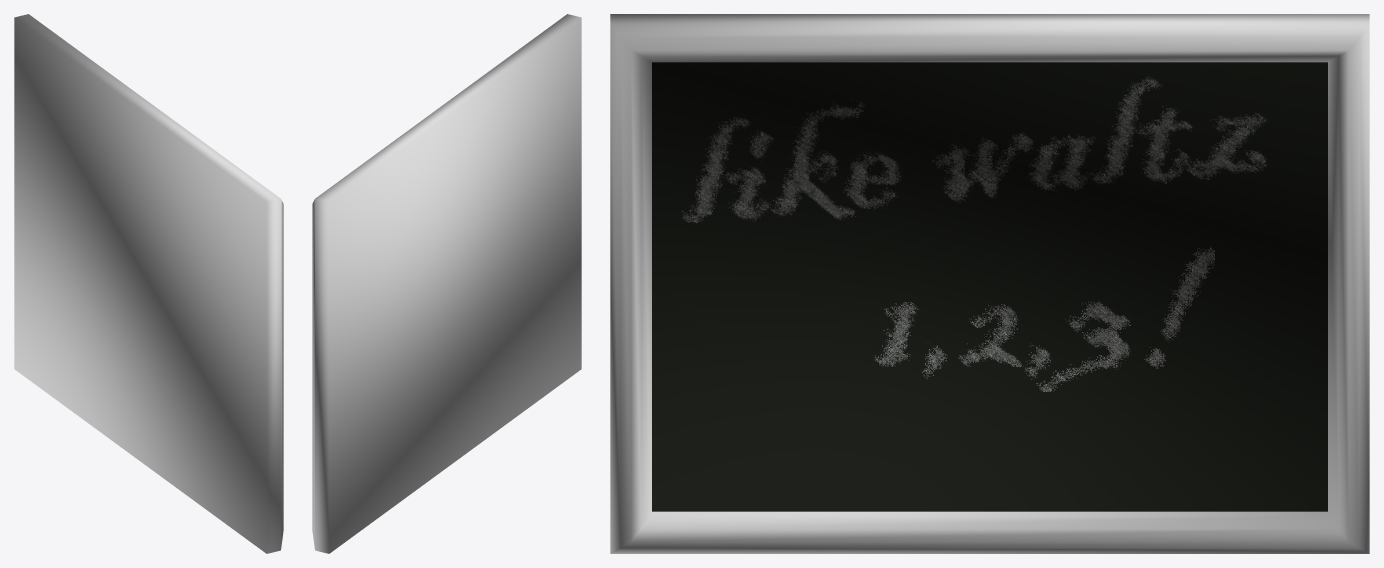
Rendered from Blackboard.fbx.
3 renders of one model, left to right at view 1: azimuth 30°, elevation 25°; view 2: azimuth 150°, elevation 25°; view 3: azimuth 270°, elevation 25°, orthographic. The views are drawn at different scales.
Visible parts, largest first — view 1: Cube; view 2: Cube; view 3: Cube.
Boxes of the visible parts, <box> form: Cube: <box>14,14,283,553</box>; Cube: <box>312,14,581,553</box>; Cube: <box>610,14,1369,553</box>.
Size of the model in its own units: 0.1405 by 1.99 by 2.58.
